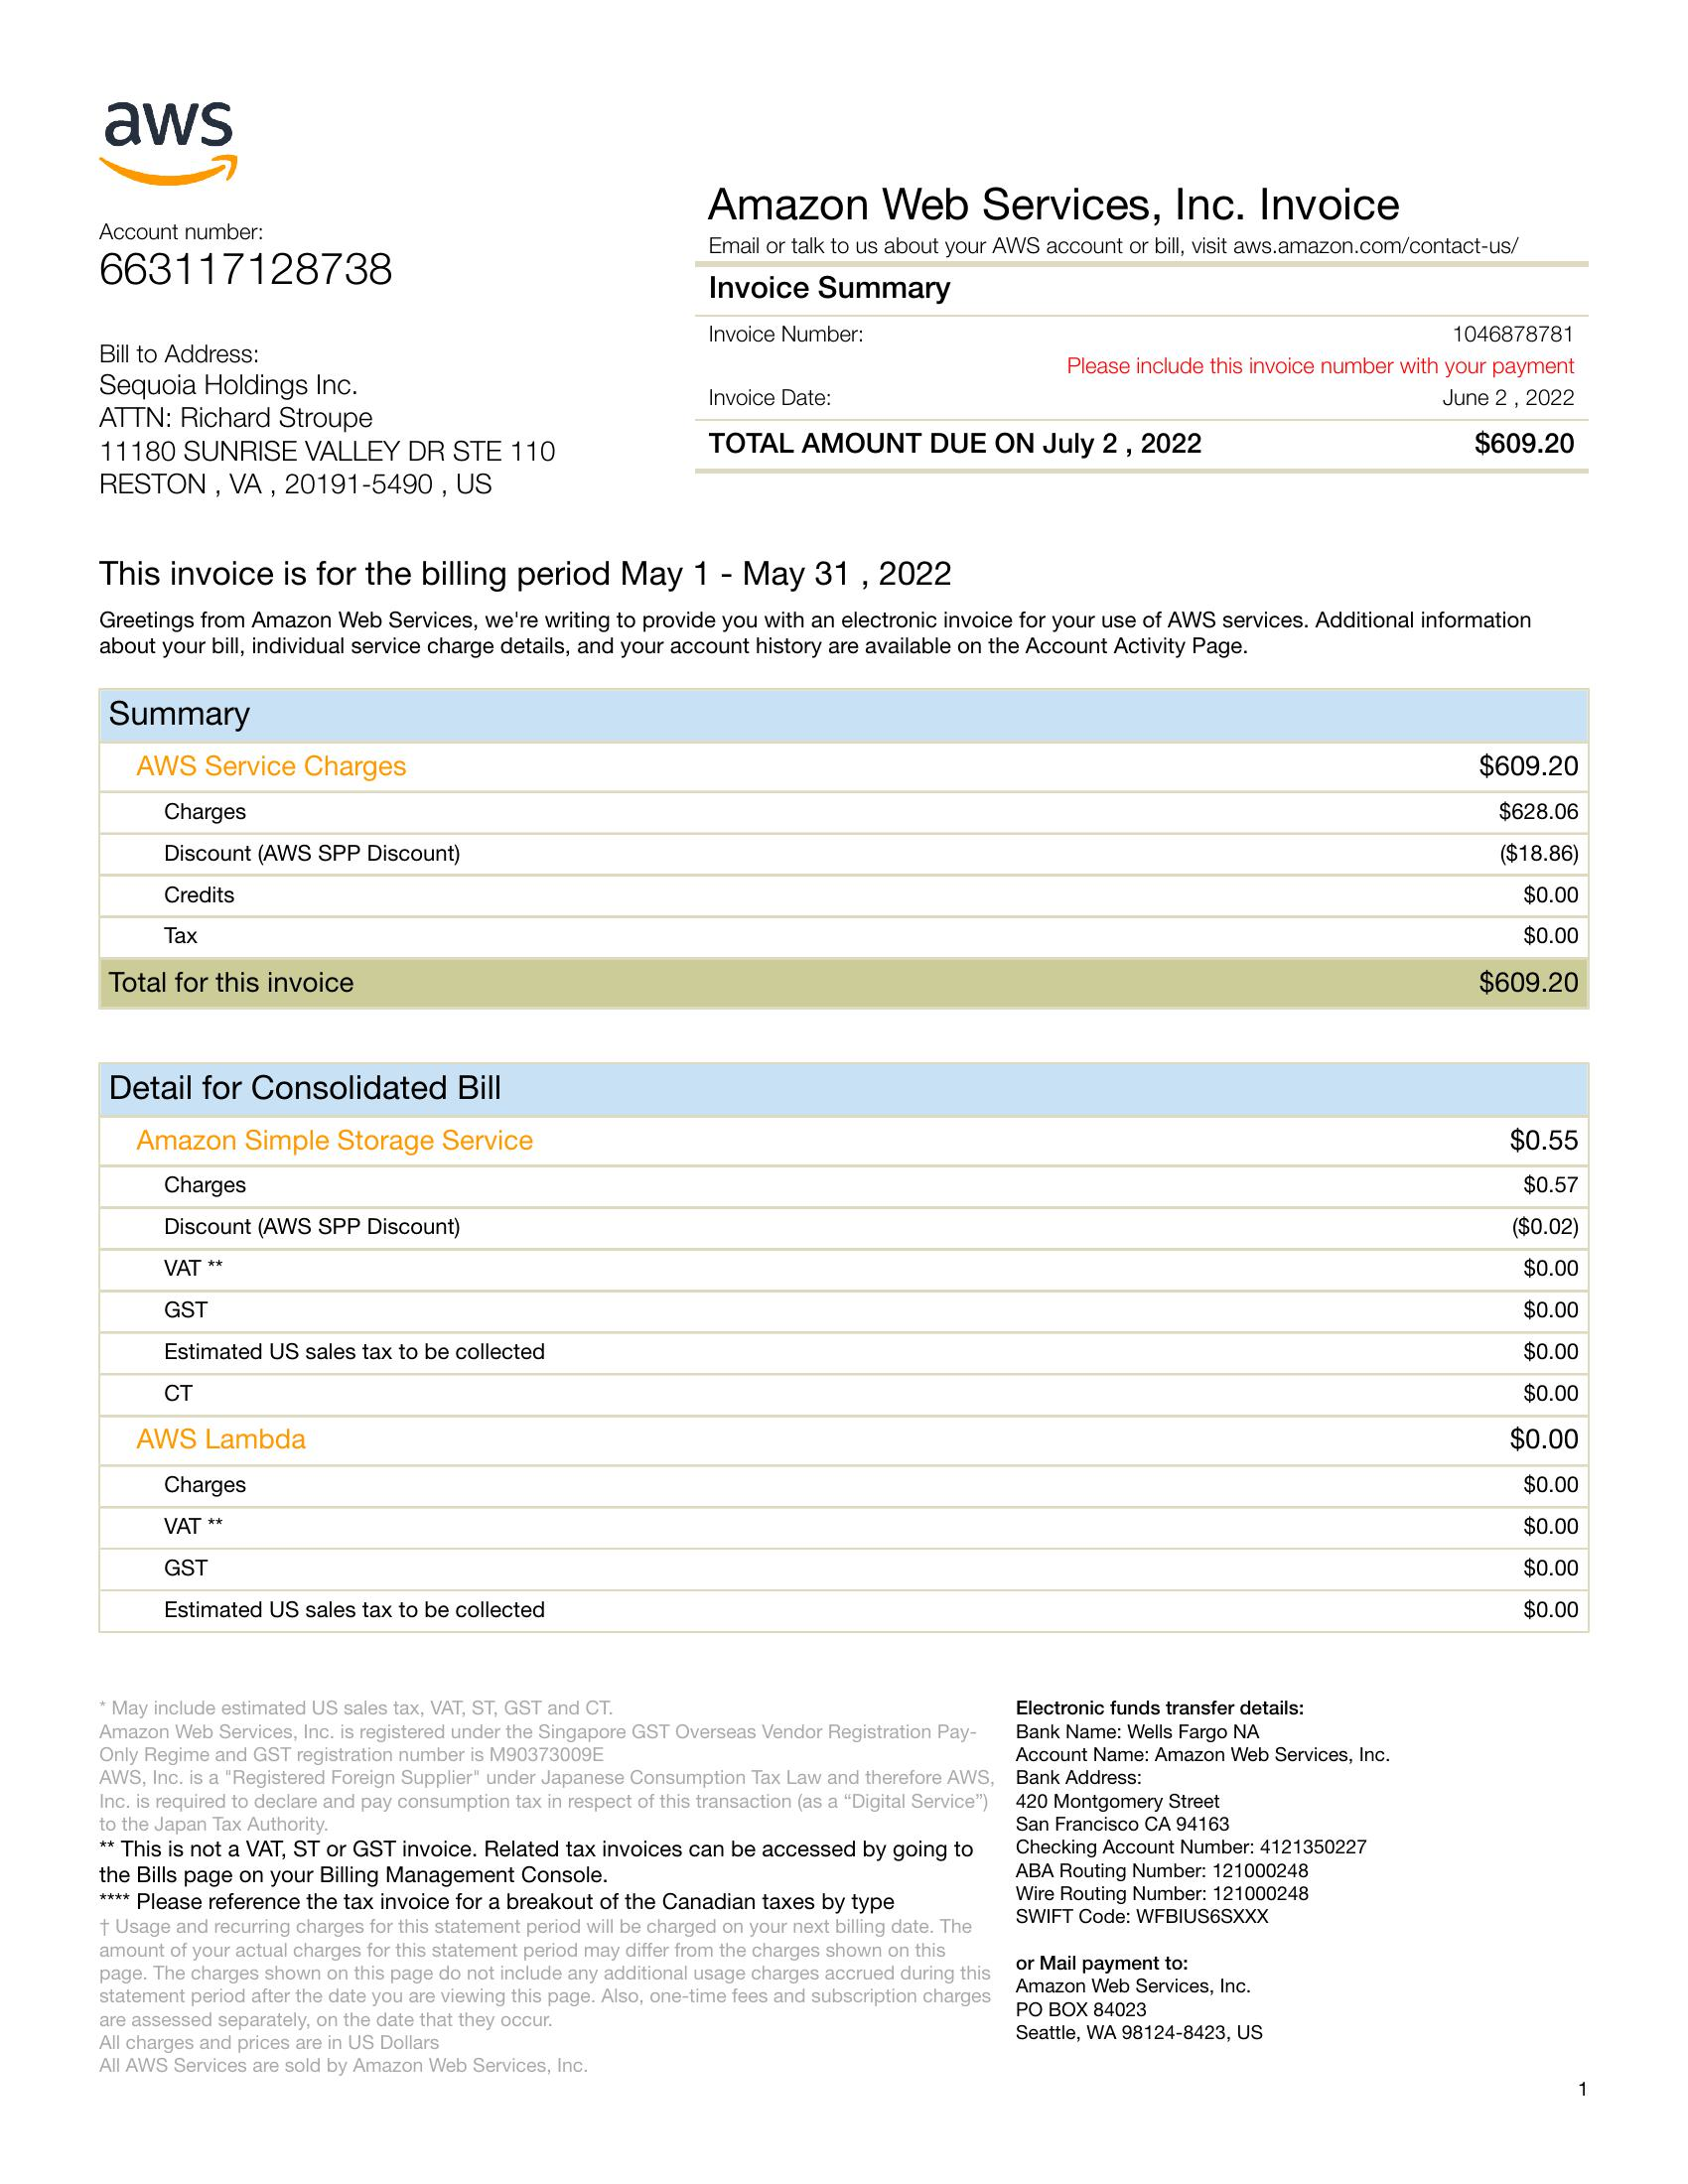table: (89, 1055, 1601, 1636), (90, 674, 1587, 1014)
